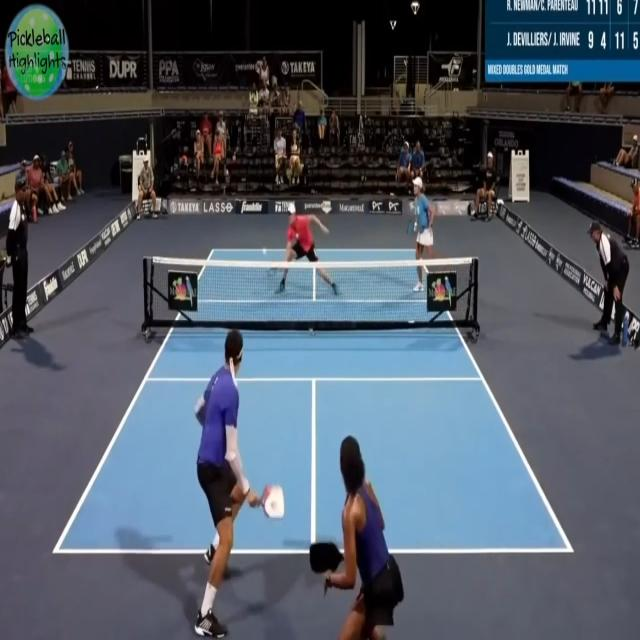ball: (259, 242, 271, 260)
